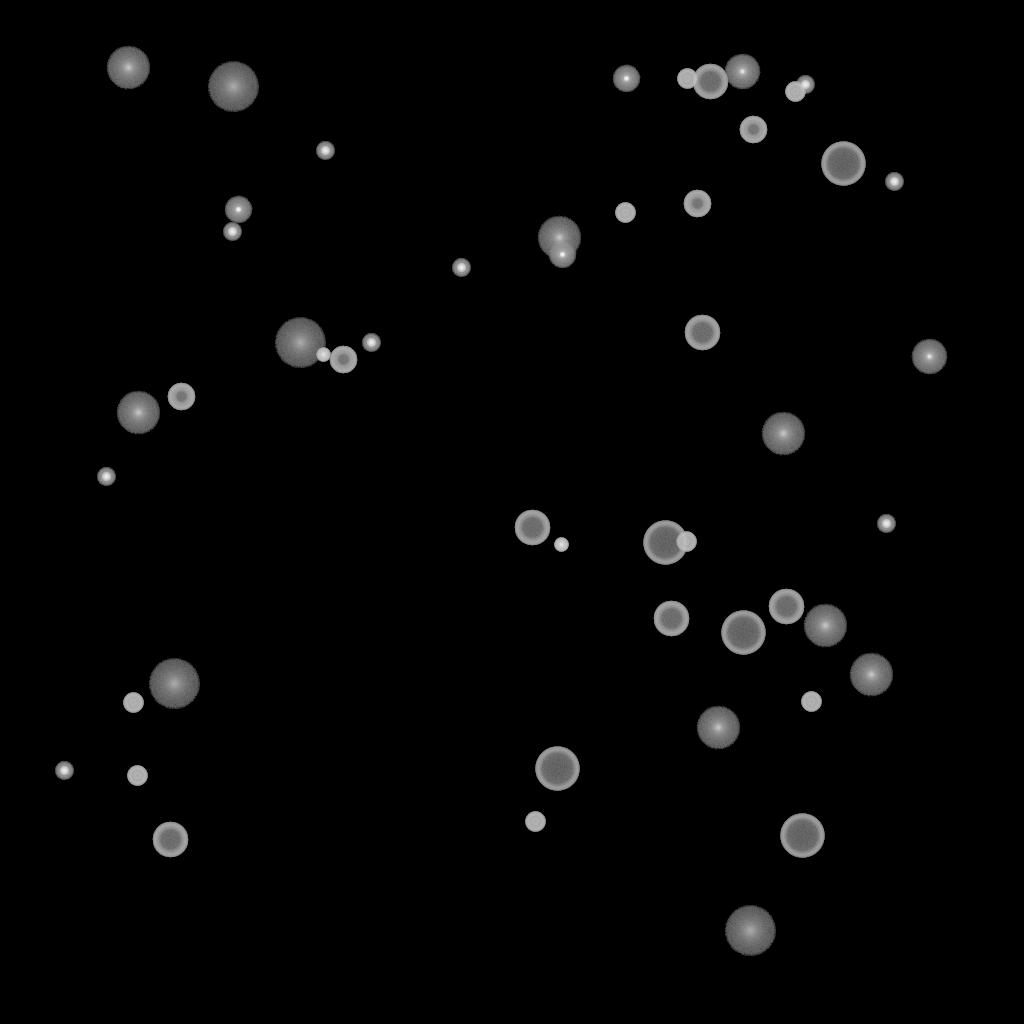depth:-10: (612, 65, 640, 93), (548, 241, 576, 269), (224, 196, 252, 224)
depth:-20: (877, 515, 895, 533), (97, 468, 115, 486), (55, 762, 73, 780), (223, 223, 241, 241), (316, 142, 334, 160), (452, 259, 470, 277), (885, 173, 903, 191), (362, 334, 380, 352), (796, 76, 814, 94)
depth:-30: (316, 348, 330, 362), (554, 538, 568, 552)
depth:-40: (676, 532, 696, 552), (123, 693, 143, 713), (677, 69, 697, 89), (127, 766, 147, 786), (801, 692, 821, 712), (615, 203, 635, 223), (785, 82, 805, 102), (525, 812, 545, 832)
depth:-50: (329, 346, 357, 374), (167, 383, 195, 411), (683, 190, 711, 218), (739, 116, 767, 144)
depth:-60: (514, 510, 550, 546), (692, 64, 728, 100), (152, 822, 188, 858), (684, 315, 720, 351), (653, 601, 689, 637), (768, 589, 804, 625)
depth:-70: (535, 747, 579, 791), (780, 814, 824, 858), (721, 611, 765, 655), (643, 521, 687, 565), (821, 142, 865, 186)
depth:0: (911, 339, 947, 375), (724, 54, 760, 90)
depth:10: (761, 412, 805, 456), (116, 391, 160, 435), (537, 216, 581, 260), (803, 604, 847, 648), (849, 653, 893, 697), (106, 46, 150, 90), (696, 706, 740, 750)
depth:20: (207, 62, 259, 112), (148, 659, 200, 709), (724, 906, 776, 956), (274, 318, 326, 368)
